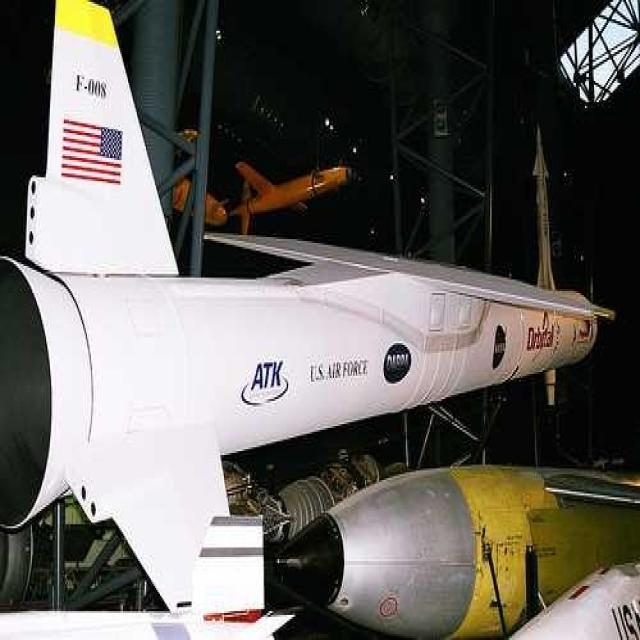missile: (8, 3, 599, 602)
